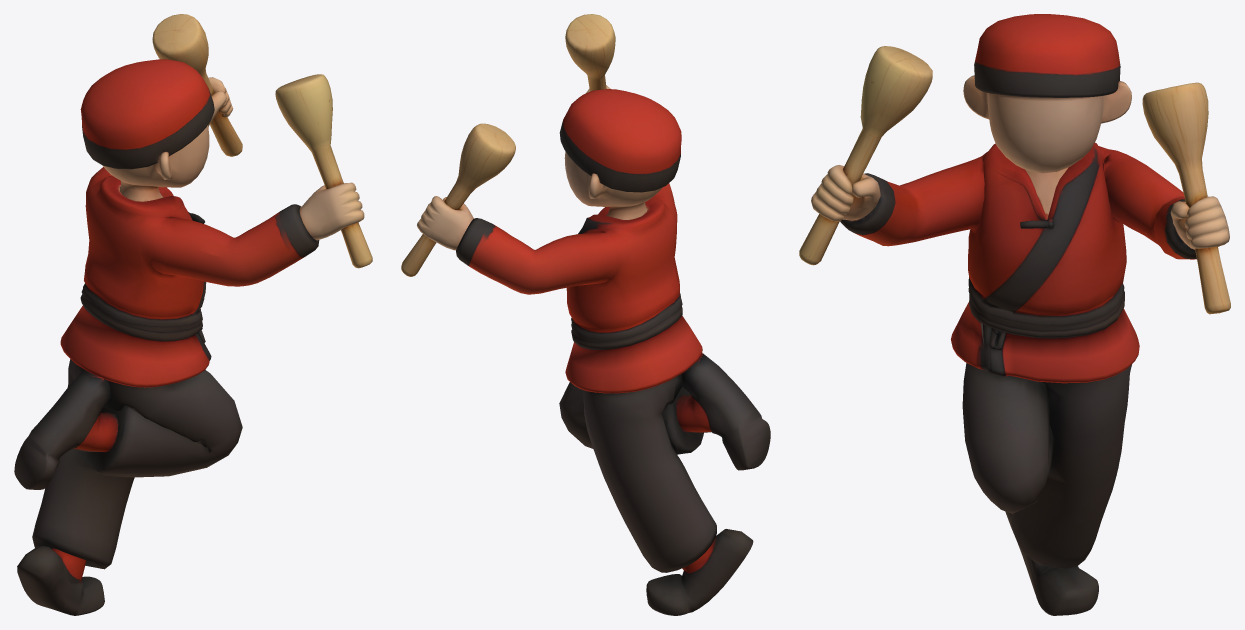
File: dancer.glb
3 views of the same model, side by side, from view 1: azimuth 30°, elevation 25°; view 2: azimuth 150°, elevation 25°; view 3: azimuth 270°, elevation 25° (orthographic). The views are drawn at different scales.
Visible parts, largest first — view 1: tripo_node_4e6dd0a1-e38e-4481-852b-ad3b9ce86a47; view 2: tripo_node_4e6dd0a1-e38e-4481-852b-ad3b9ce86a47; view 3: tripo_node_4e6dd0a1-e38e-4481-852b-ad3b9ce86a47.
Boxes of the visible parts, bbox=[...] form: tripo_node_4e6dd0a1-e38e-4481-852b-ad3b9ce86a47: bbox=[14, 14, 372, 615]; tripo_node_4e6dd0a1-e38e-4481-852b-ad3b9ce86a47: bbox=[401, 14, 770, 615]; tripo_node_4e6dd0a1-e38e-4481-852b-ad3b9ce86a47: bbox=[799, 14, 1230, 615].
Size of the model in its own units: 0.5825 by 0.9995 by 0.606.
1 material, 1 textured.
